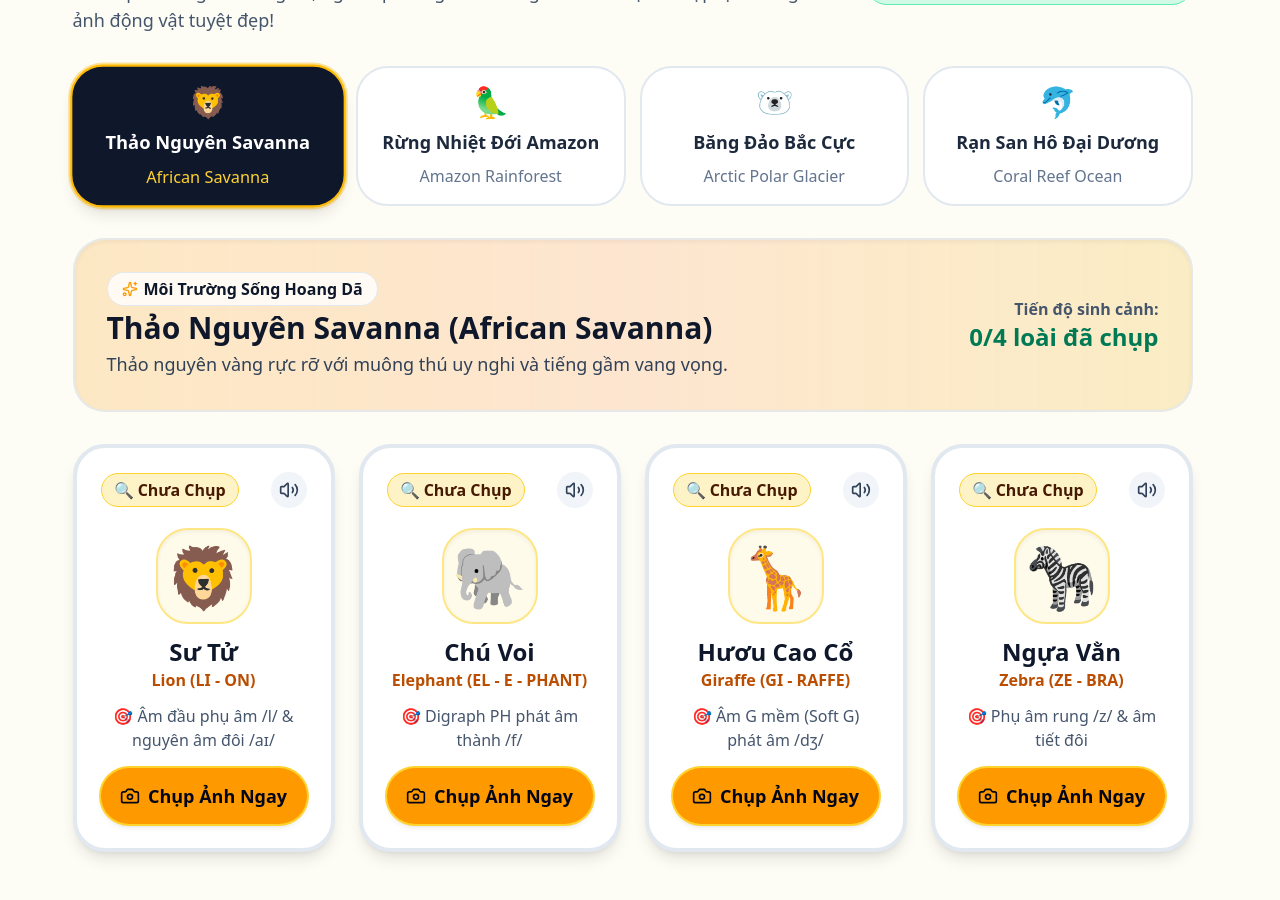
Test: Phonics Safari UI Components › PhonicsSafariExperience Main Container › renders habitat animals, opens camera modal, and captures photo
The width and height of the screenshot is (1280, 900).
(page scrolled)
Check: the heading "Thảo Nguyên Savanna (African Savanna)" is shown, box [106,310,728,346]
Check: the element with test id "safari-animal-card-lion" is shown, box [72,444,334,852]
Click "Chụp ảnh ngay" for Lion
Click the button with aria-label "chụp ảnh sư tử": (204, 796) [100,768,306,824]
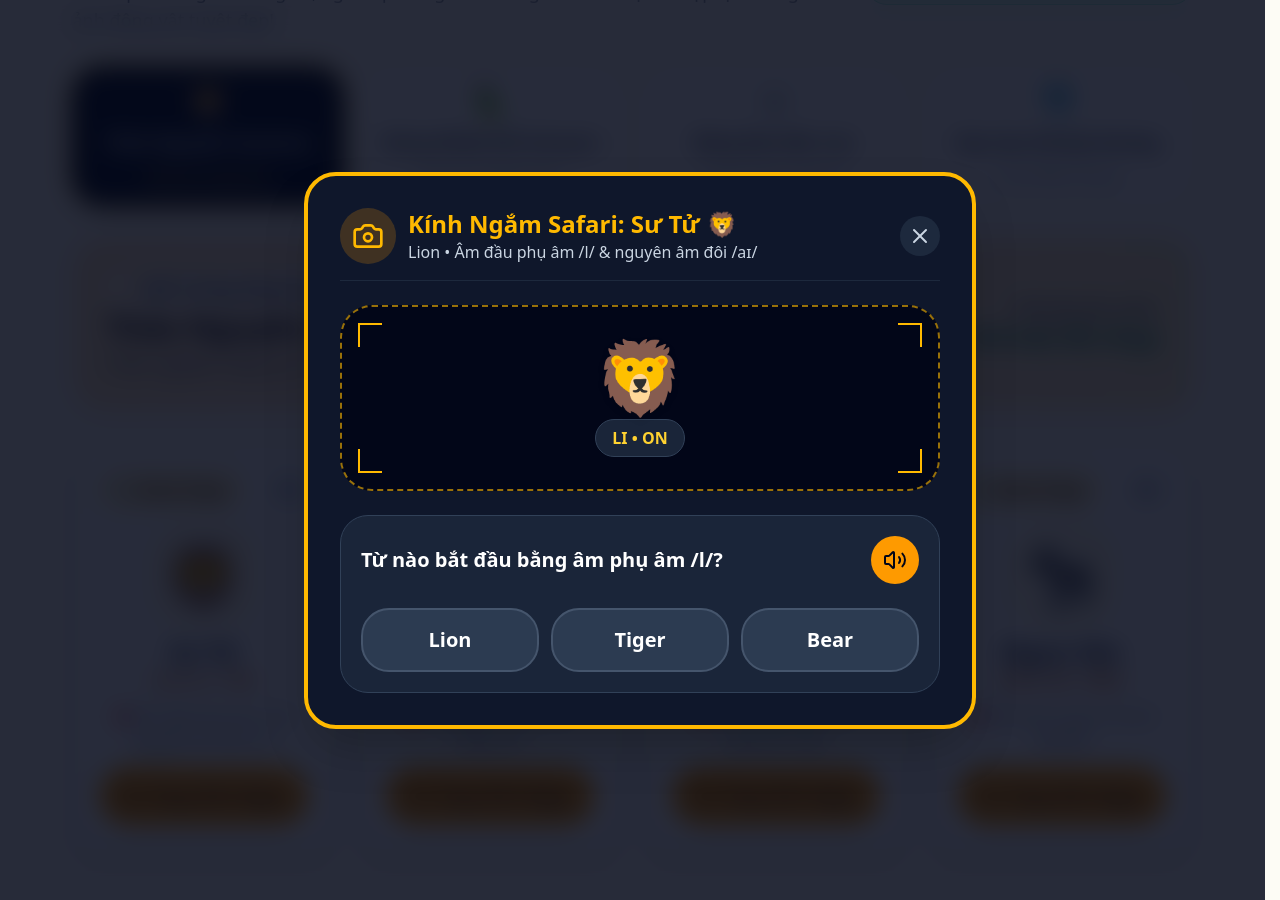
Check: the dialog named "kính ngắm máy ảnh chụp sư tử" is shown
Select correct answer "Lion"
Click the button "Lion": (450, 640) [361,608,539,672]
Wait 1600 ms
(page scrolled)
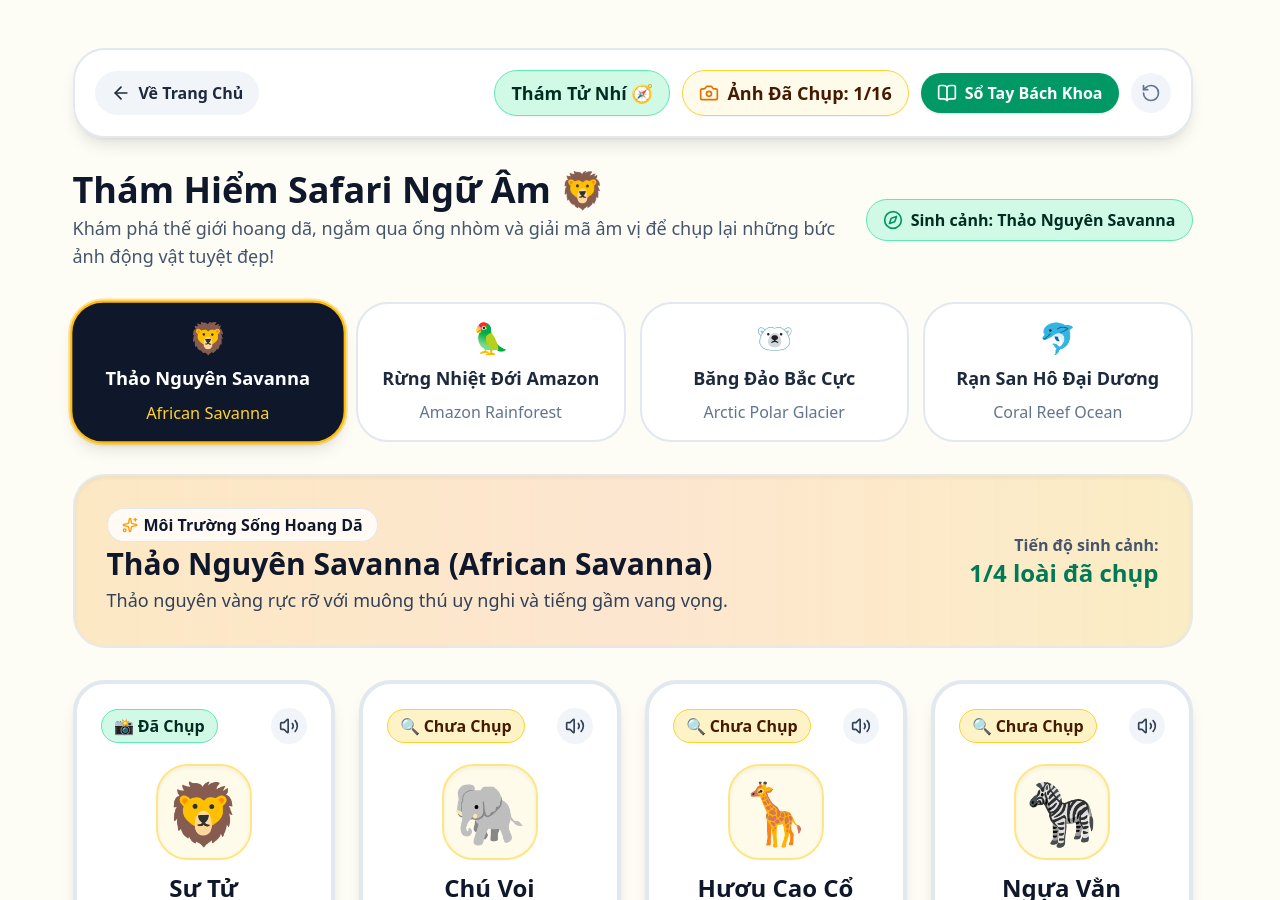
Check: the text "Ảnh Đã Chụp: 1/16" is shown, box [727,79,892,107]
